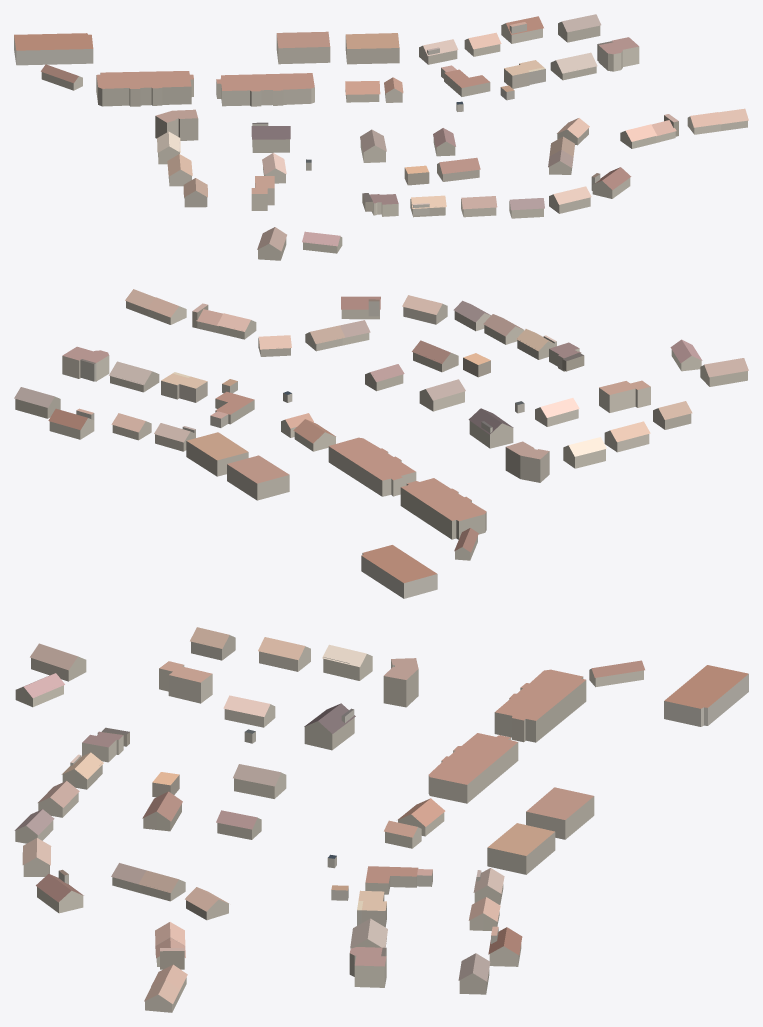
The picture shows the model from 3 angles, top to bottom: view 1: azimuth 30°, elevation 25°; view 2: azimuth 150°, elevation 25°; view 3: azimuth 270°, elevation 25°; orthographic projection. The views are drawn at different scales.
Parts seen in each view (by area): view 1: tuile; view 2: tuile; view 3: tuile.
Boxes of the visible parts, x1=… form: tuile: x1=14, y1=14, x2=748, y2=260; tuile: x1=14, y1=289, x2=748, y2=598; tuile: x1=14, y1=627, x2=748, y2=1012.
Bounding box in the file's own units: 258 × 23.02 × 243.
